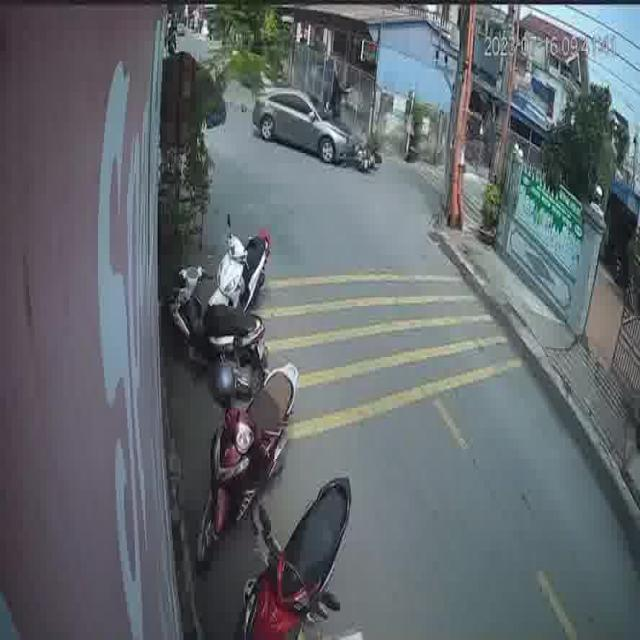multiple_accident: (247, 63, 383, 181)
